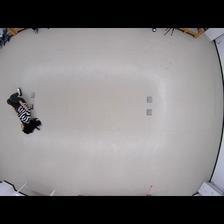fall: (6, 88, 42, 133)
